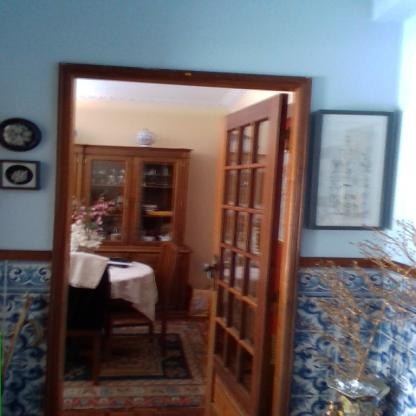open: (36, 59, 318, 415)
